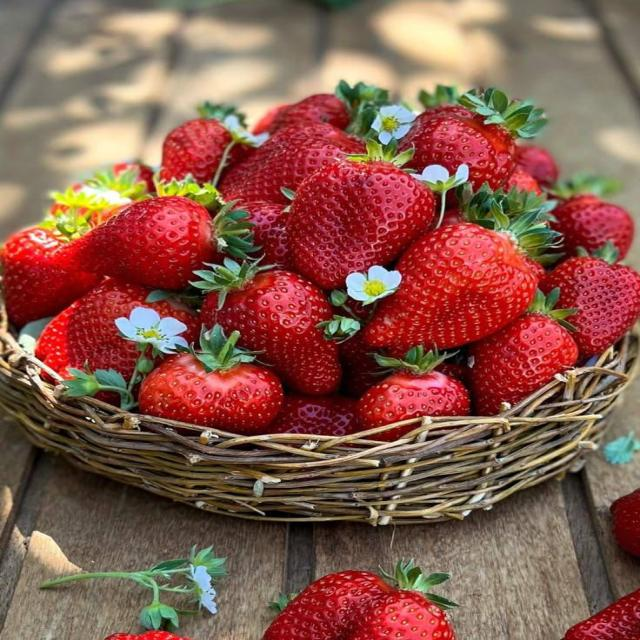strawberry: (363, 211, 556, 352), (287, 141, 434, 289), (195, 260, 341, 395), (61, 196, 252, 289), (36, 279, 199, 379), (139, 326, 283, 435), (263, 561, 456, 639), (400, 89, 545, 188), (469, 290, 578, 415), (220, 124, 364, 205), (540, 243, 639, 357), (0, 228, 100, 326), (358, 347, 470, 429), (262, 571, 392, 639), (346, 561, 457, 639), (50, 163, 155, 232), (160, 104, 251, 182), (551, 174, 633, 259), (323, 290, 385, 397), (347, 590, 455, 639), (553, 194, 633, 258), (270, 395, 360, 436), (564, 590, 639, 639), (241, 201, 292, 268), (267, 94, 349, 133), (339, 333, 384, 397), (415, 85, 473, 127), (611, 489, 639, 557), (516, 145, 559, 186), (113, 162, 154, 193), (252, 104, 290, 135), (504, 167, 542, 195), (106, 631, 187, 639)
